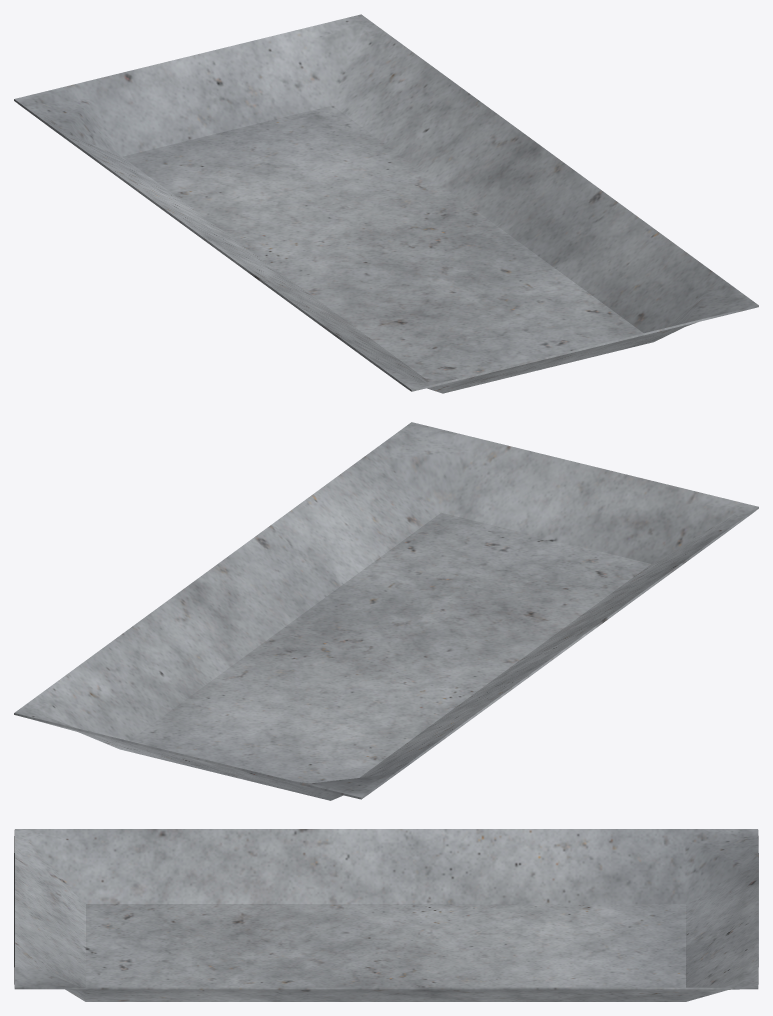
The model's file is ToolTray.fbx.
3 views of the same model, one above another, from view 1: azimuth 30°, elevation 25°; view 2: azimuth 150°, elevation 25°; view 3: azimuth 270°, elevation 25° (orthographic). The views are drawn at different scales.
Parts seen in each view (by area): view 1: Plane; view 2: Plane; view 3: Plane.
Boxes of the visible parts, <box> form: Plane: <box>14,14,758,393</box>; Plane: <box>14,422,758,800</box>; Plane: <box>14,829,758,1001</box>.
Bounding box in the file's own units: 201 × 26.48 × 398.
